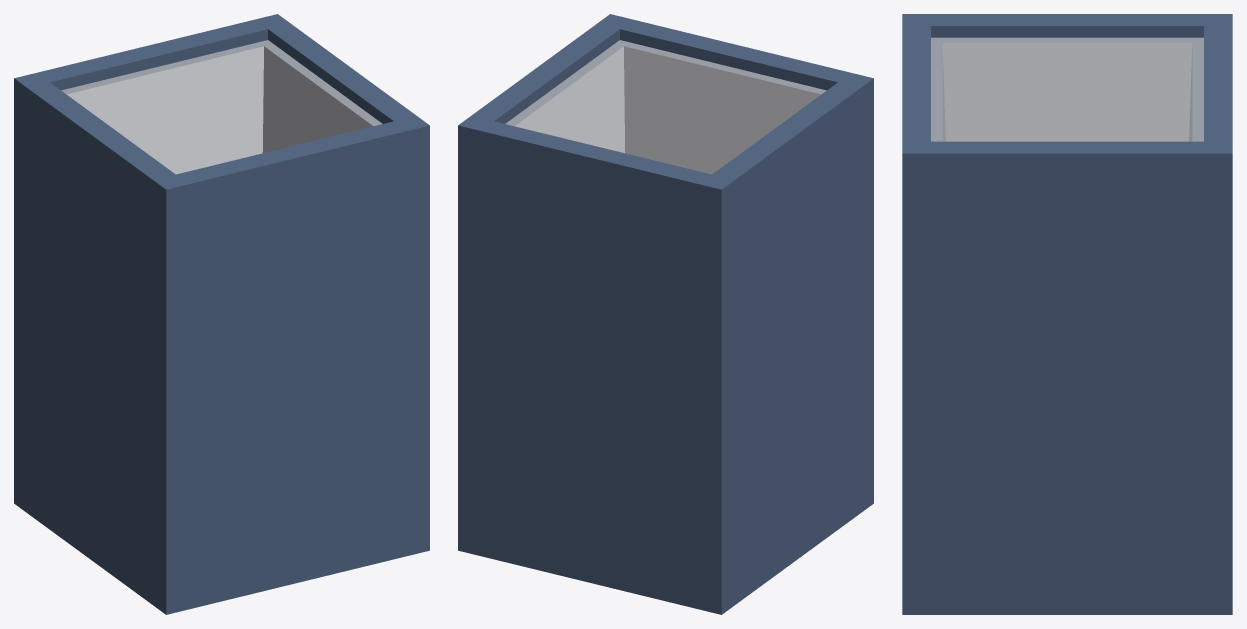
The model's file is 11_recycle.fbx.
3 views of the same model, side by side, from view 1: azimuth 30°, elevation 25°; view 2: azimuth 150°, elevation 25°; view 3: azimuth 270°, elevation 25° (orthographic). The views are drawn at different scales.
Parts seen in each view (by area): view 1: 11_recycle; view 2: 11_recycle; view 3: 11_recycle.
Part boxes in pixels (x1=…): 11_recycle: x1=14, y1=14, x2=429, y2=614; 11_recycle: x1=458, y1=14, x2=873, y2=614; 11_recycle: x1=902, y1=14, x2=1232, y2=614.
Bounding box in the file's own units: 34.88 × 53.76 × 34.88.
